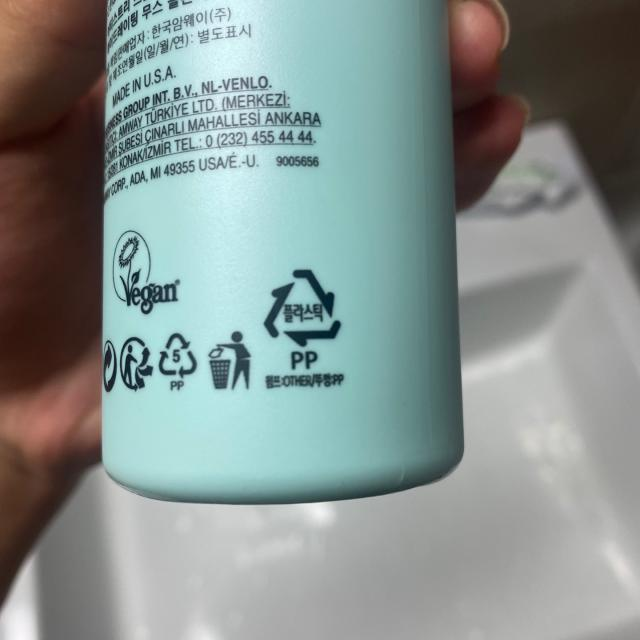Plastic: (260, 264, 342, 348)
